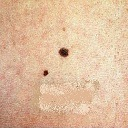Melanoma: (58, 47, 70, 58)
